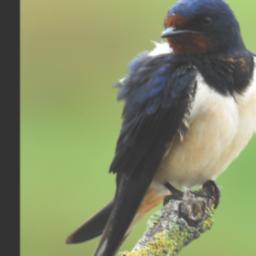Swallow: (64, 0, 256, 256)
